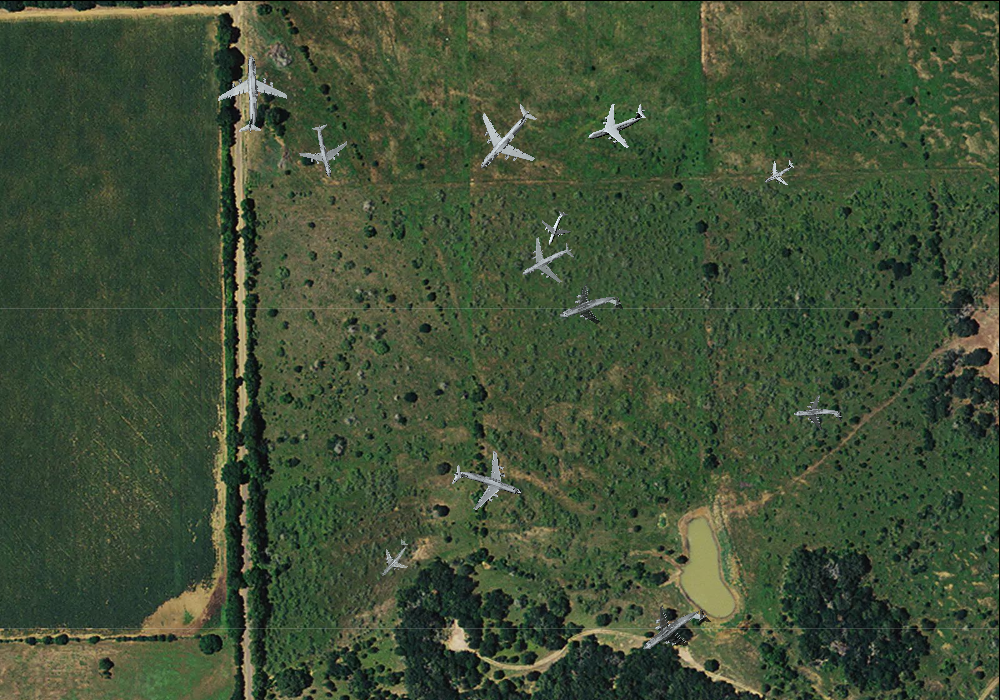plane: (453, 86, 557, 190), (627, 584, 722, 677), (443, 439, 531, 526), (212, 53, 289, 134), (551, 272, 630, 344), (578, 87, 655, 160), (510, 225, 583, 297), (293, 119, 354, 182), (366, 531, 420, 586), (792, 391, 844, 437), (756, 150, 801, 194), (534, 205, 578, 250)
